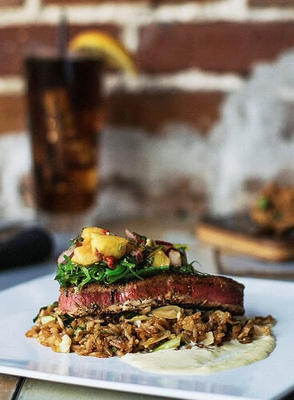pizza: (24, 51, 108, 227)
soup: (27, 226, 256, 362)
